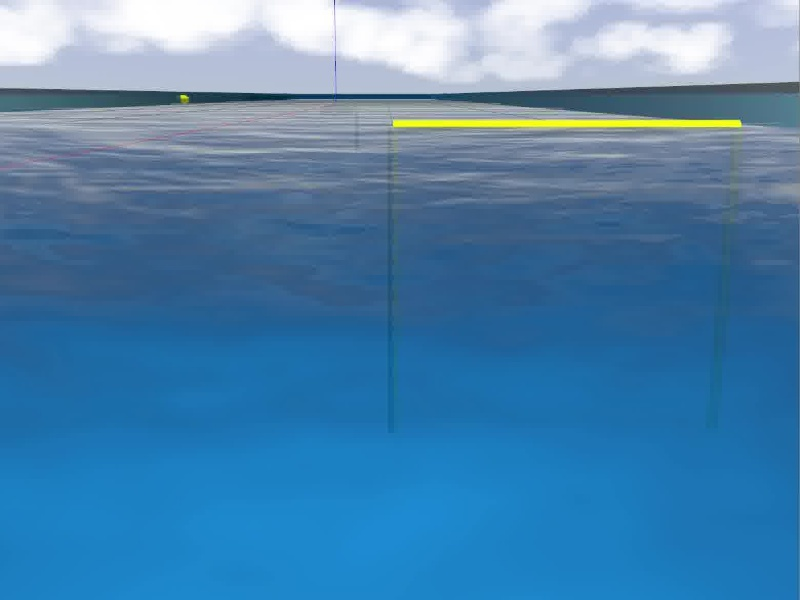gate: (383, 117, 742, 437)
